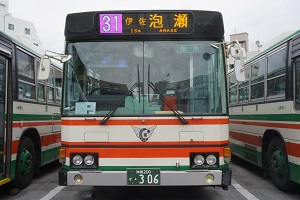destination: (98, 13, 190, 33)
